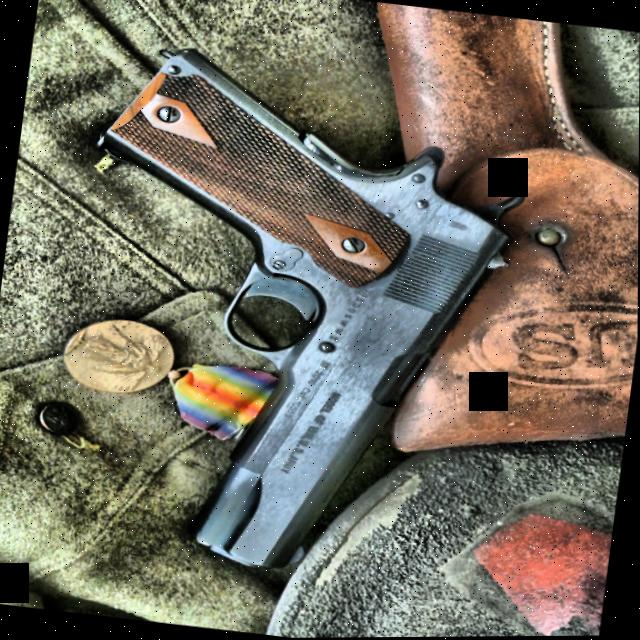Colt m1911: (42, 35, 542, 598)
